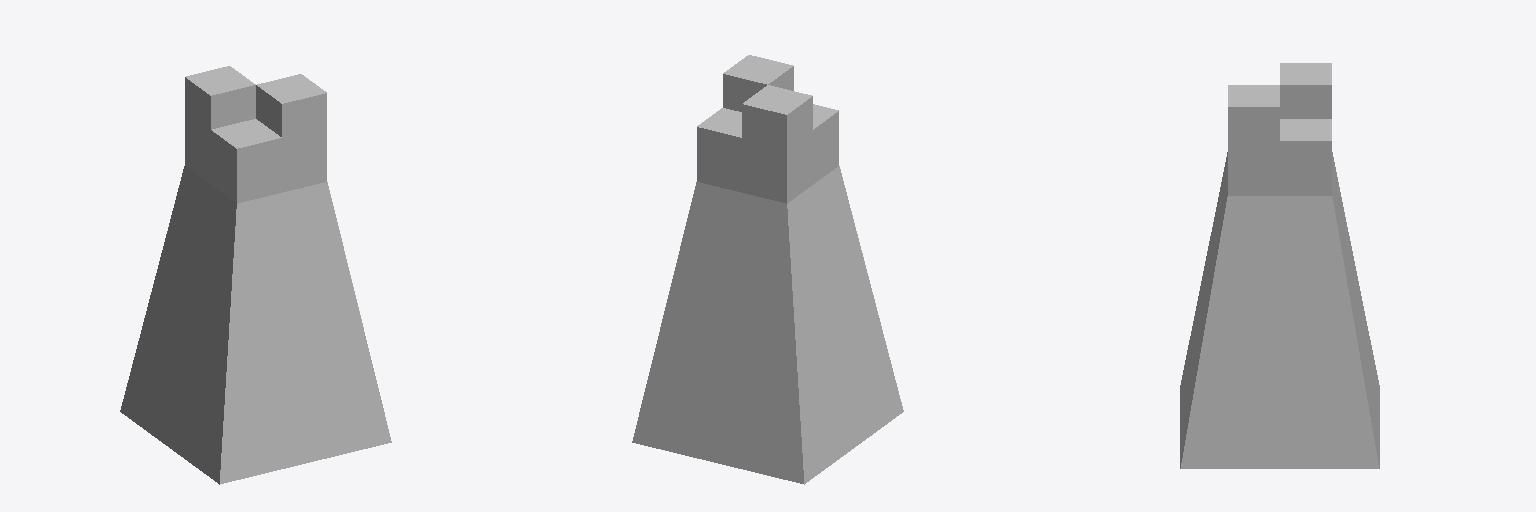
Rendered from testOpenGL.obj.
The picture shows the model from 3 angles: view 1: azimuth 30°, elevation 25°; view 2: azimuth 150°, elevation 25°; view 3: azimuth 270°, elevation 25°; orthographic projection.
Visible parts, largest first — view 1: Cube; view 2: Cube; view 3: Cube.
Boxes of the visible parts, box(x1,y1,x2,y2) form: Cube: box(120, 66, 391, 484); Cube: box(632, 55, 903, 484); Cube: box(1180, 63, 1379, 468).
Bounding box in the file's own units: 2 × 3.8 × 2.